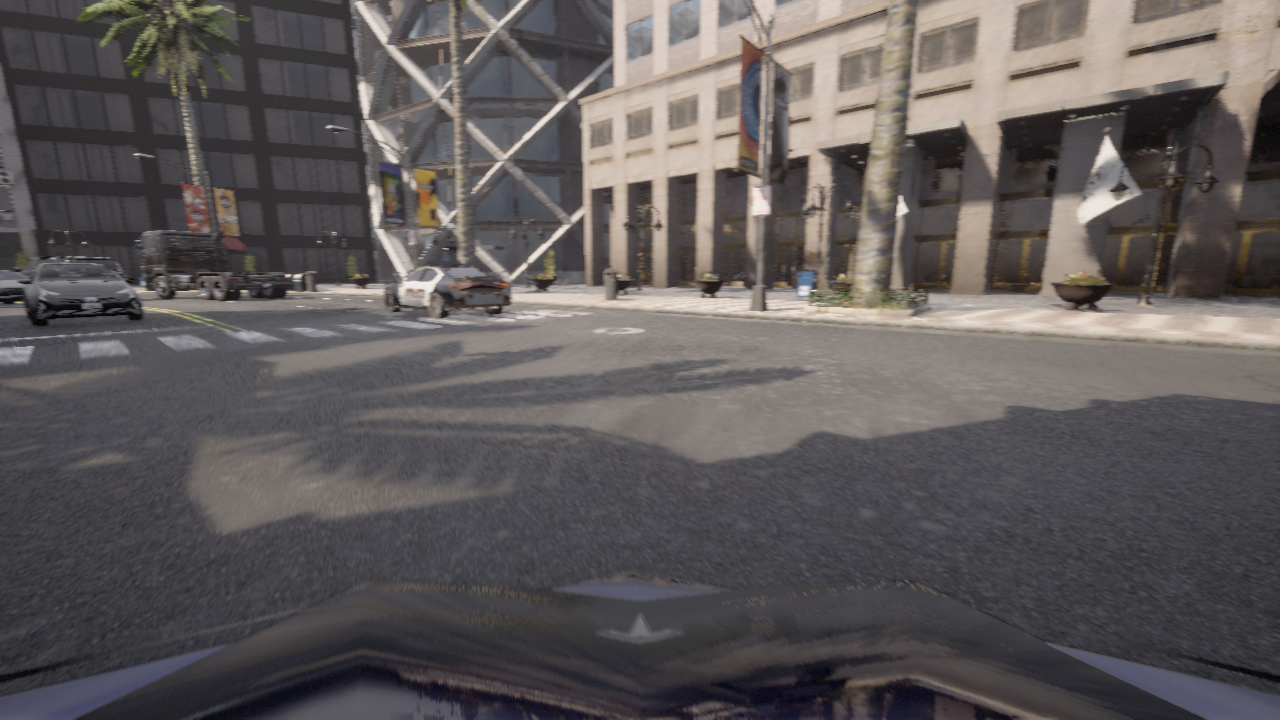cyclist: (0, 569, 1279, 719), (135, 230, 294, 300), (17, 263, 143, 325), (383, 262, 511, 318), (14, 256, 128, 284)
